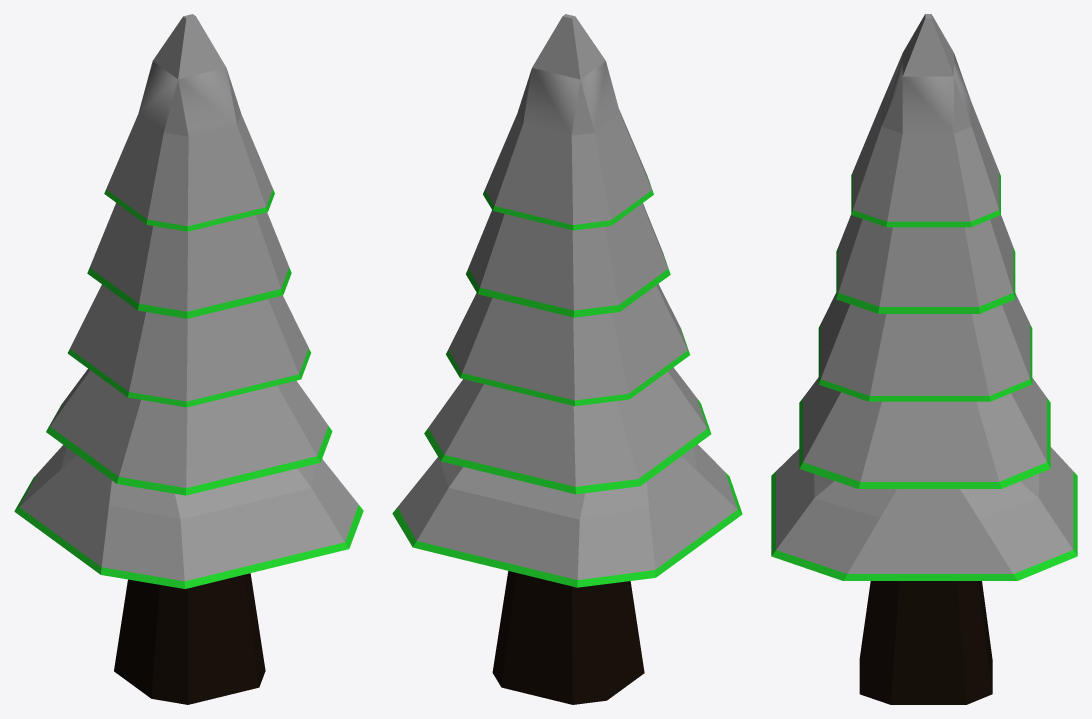
The model's file is tree_3.FBX.
3 renders of one model, left to right at view 1: azimuth 30°, elevation 25°; view 2: azimuth 150°, elevation 25°; view 3: azimuth 270°, elevation 25°, orthographic.
Parts seen in each view (by area): view 1: Box001; view 2: Box001; view 3: Box001.
Boxes of the visible parts, box(x1,y1,x2,y2) form: Box001: box(14, 14, 363, 704); Box001: box(392, 14, 742, 704); Box001: box(771, 14, 1077, 704).
Size of the model in its own units: 95.21 by 227 by 95.21.
